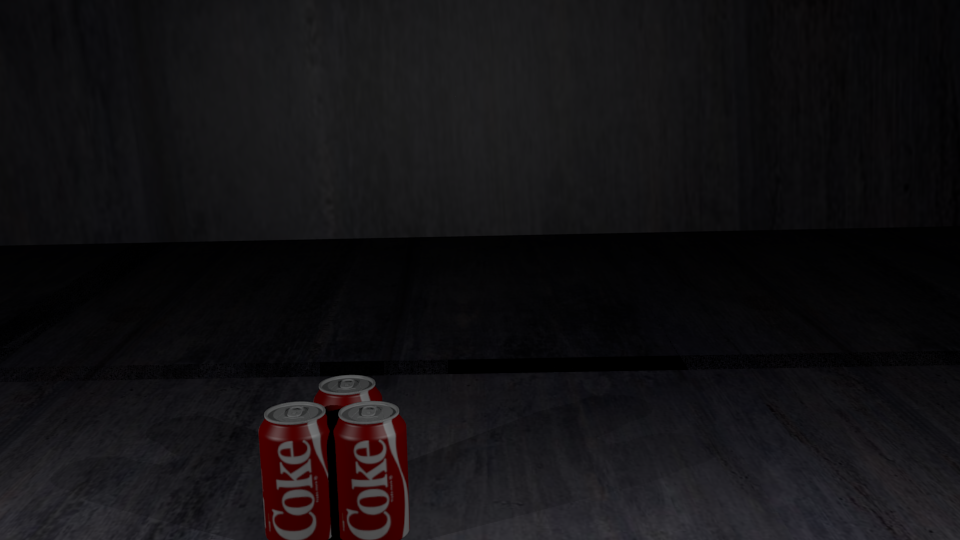cola_can: (333, 401, 408, 539), (259, 402, 334, 539), (314, 375, 381, 507)
